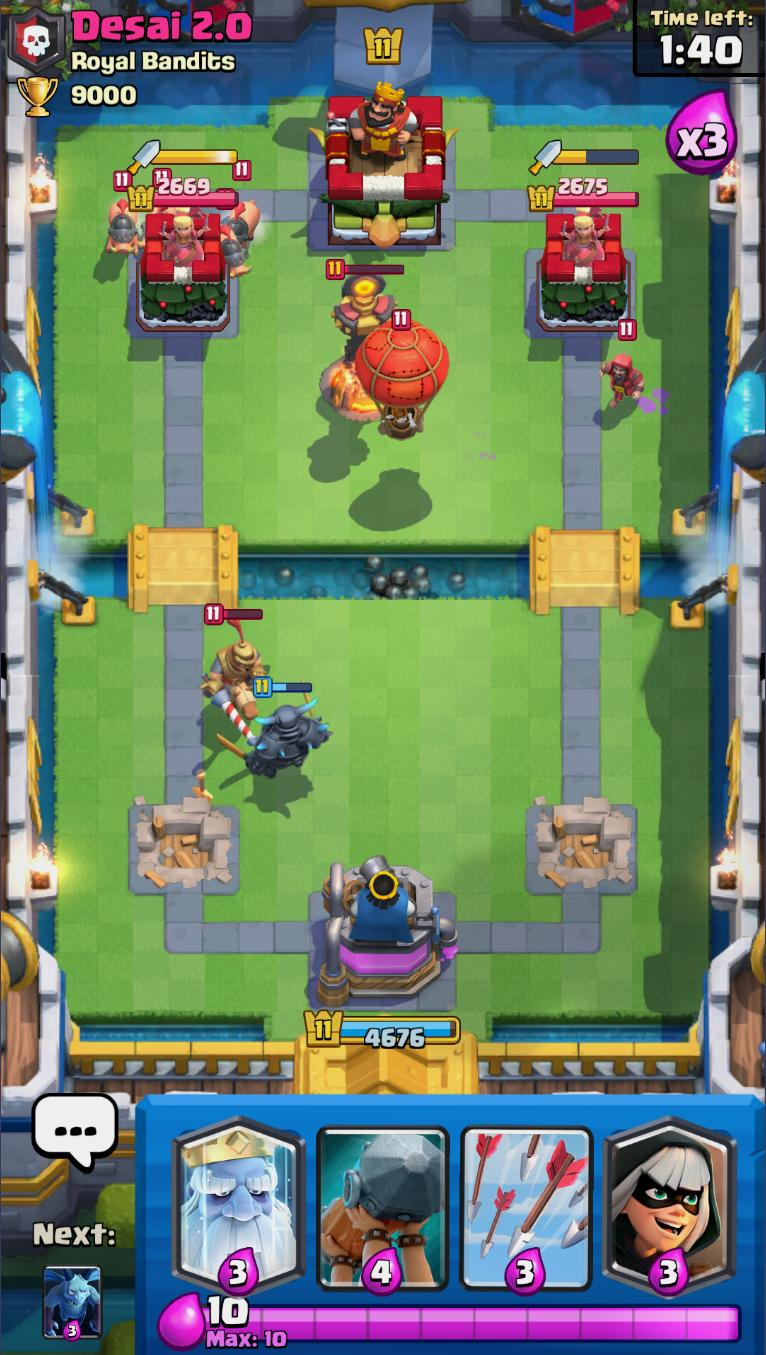ArrowDeck: (454, 1094, 599, 1296)
Balloon: (353, 309, 454, 440)
BanditDeck: (597, 1094, 741, 1296)
BattleRamDeck: (313, 1094, 456, 1293)
DaggerDuchess: (556, 204, 614, 266), (160, 207, 210, 266)
Daggers: (129, 140, 239, 179), (530, 139, 641, 171)
Elixir: (201, 1296, 747, 1351)
EnemyTower: (534, 210, 634, 336), (136, 209, 233, 331)
Inferno: (320, 257, 411, 426)
KingTower: (306, 80, 460, 254)
MinionsNext: (40, 1263, 104, 1341)
MyKingHP: (306, 1009, 461, 1050)
MyKingTower: (314, 860, 460, 1007)
MyPekka: (253, 661, 333, 783)
MyPrincessTowerBrocken: (131, 800, 243, 897), (529, 801, 639, 891)
Prince: (197, 601, 266, 744)
RoyaleGhostDeck: (166, 1093, 311, 1293)
RoyalePig: (214, 186, 251, 280), (104, 171, 140, 254), (230, 160, 260, 247)
TowerPrincessHP: (530, 176, 640, 211), (127, 177, 240, 211)
Wizard: (600, 317, 647, 410)
